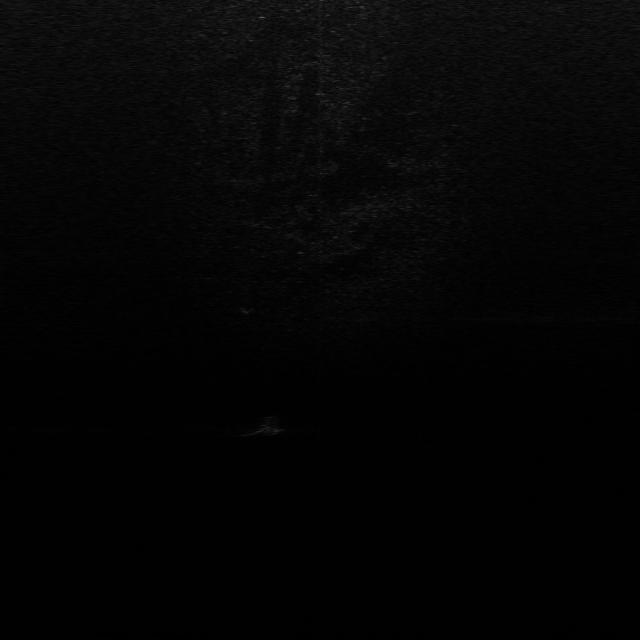ball: (257, 415, 288, 436)
circle cage: (234, 298, 260, 315)
